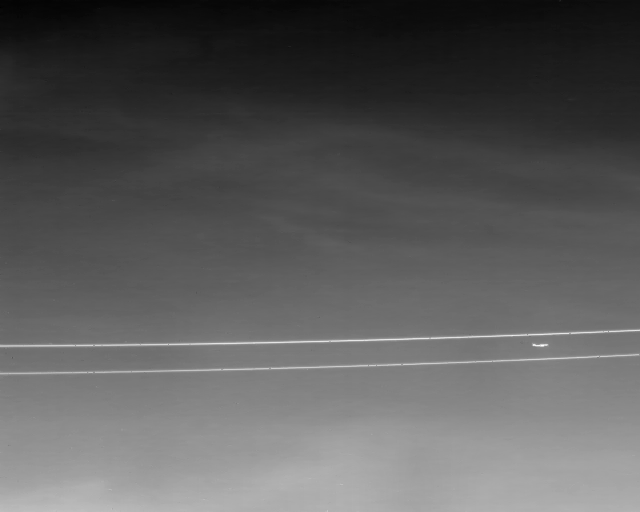Target: (532, 343, 548, 347)
